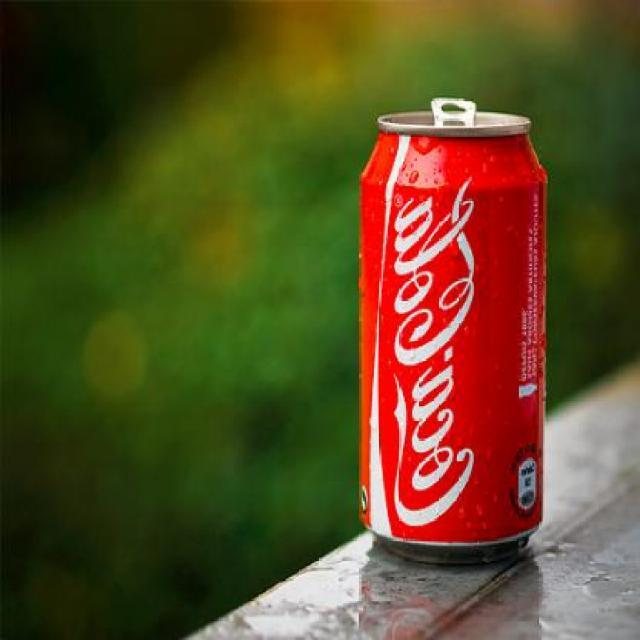can: (341, 77, 554, 580)
